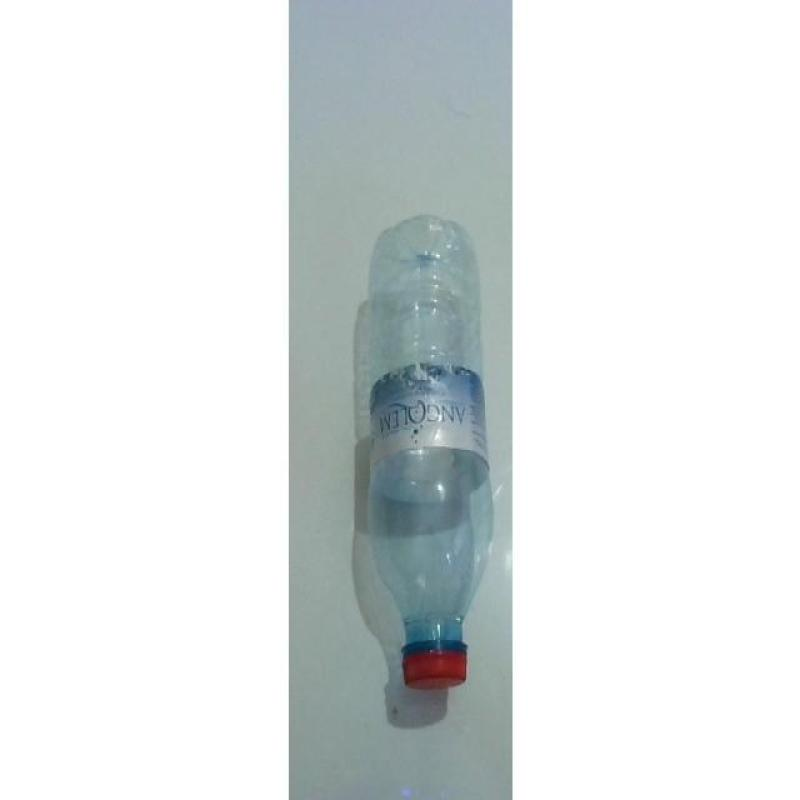botella: (369, 215, 495, 690)
